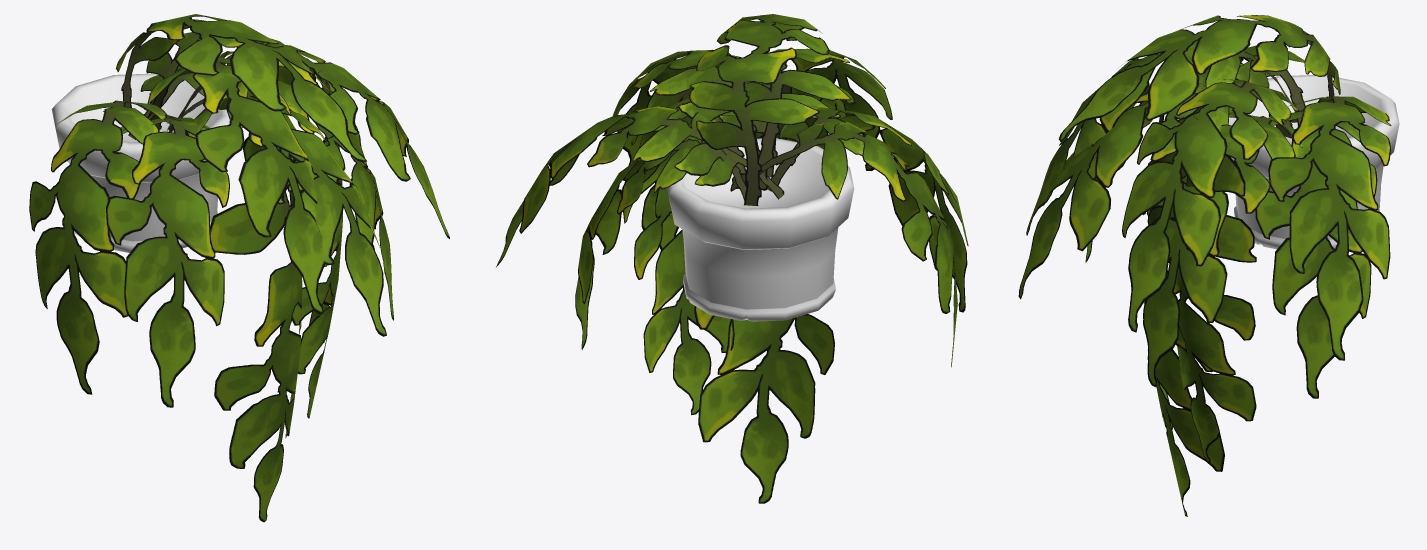
File: PlantSmall_01.fbx
The picture shows the model from 3 angles, left to right: view 1: azimuth 30°, elevation 25°; view 2: azimuth 150°, elevation 25°; view 3: azimuth 270°, elevation 25°; orthographic projection. The views are drawn at different scales.
Visible parts, largest first — view 1: Plane.142, Pot.004; view 2: Plane.142, Pot.004; view 3: Plane.142, Pot.004.
Boxes of the visible parts, bbox=[...] form: Plane.142: bbox=[29, 14, 449, 522]; Pot.004: bbox=[51, 73, 229, 252]; Plane.142: bbox=[496, 14, 968, 503]; Pot.004: bbox=[667, 138, 854, 321]; Plane.142: bbox=[1018, 15, 1391, 516]; Pot.004: bbox=[1228, 75, 1399, 249].
Size of the model in its own units: 530 by 644 by 486.
